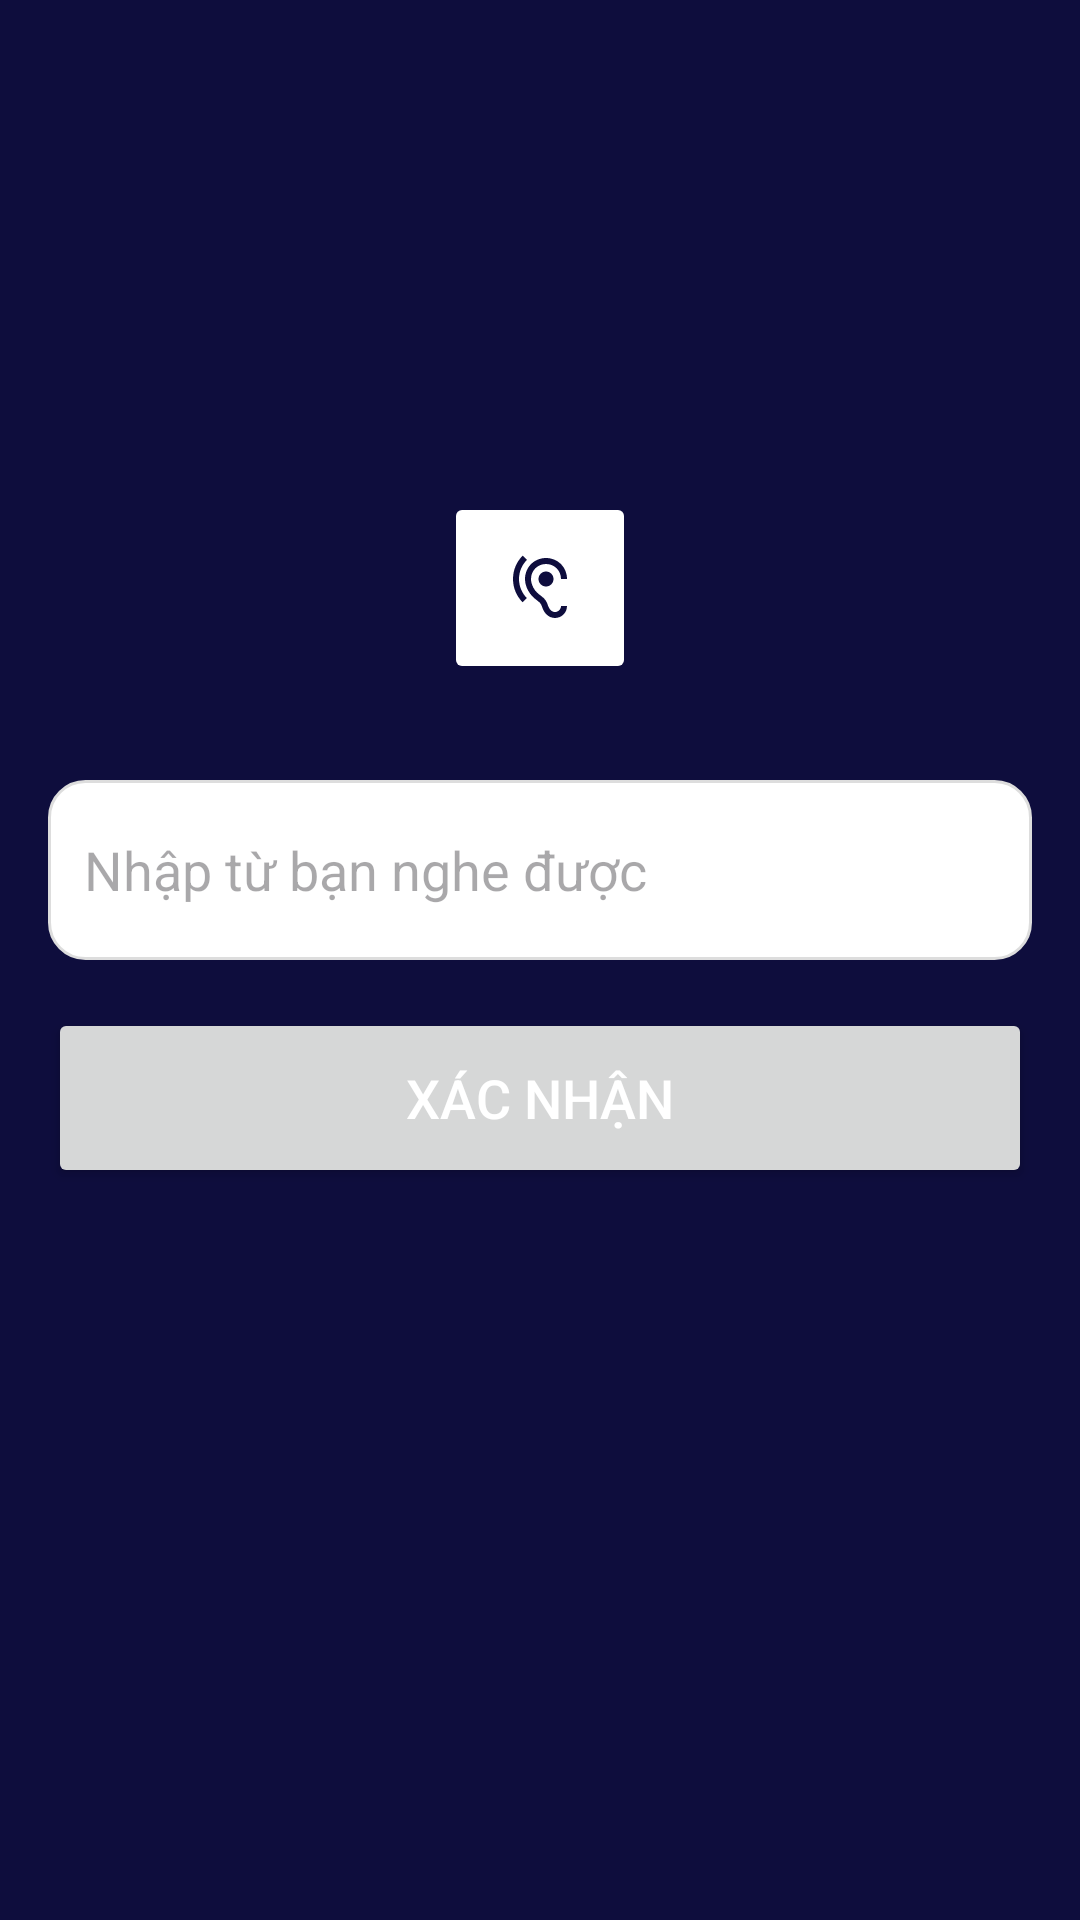

Point at icon controls on the screen. Image size 1080×1920, points as [x,y].
hearing: [540,588]
